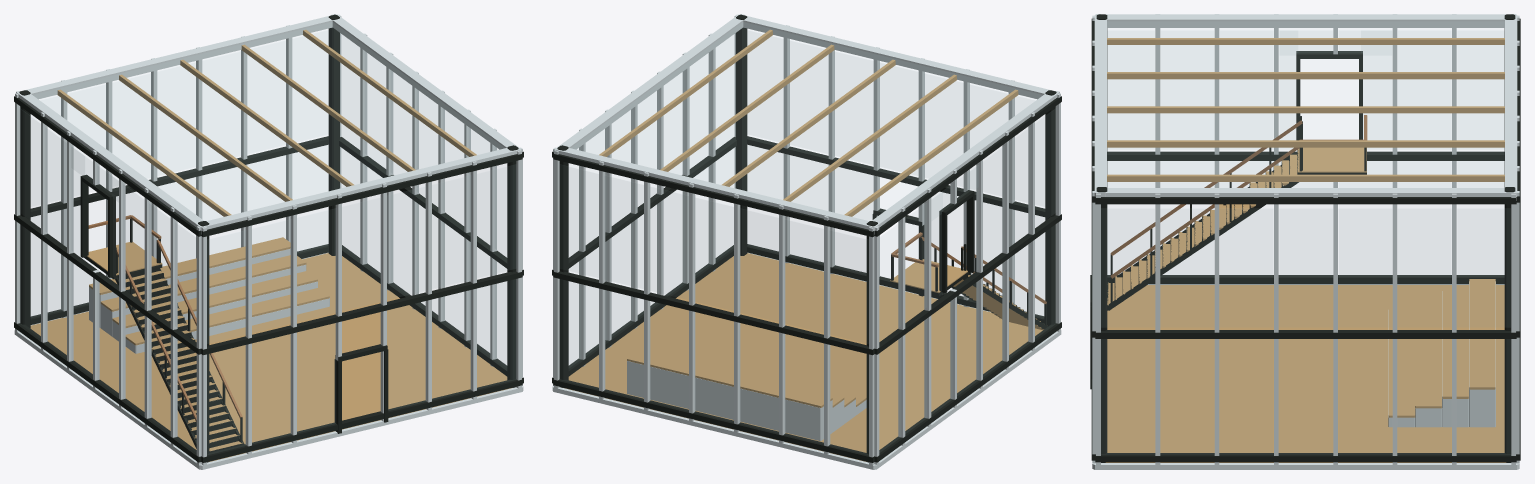
The model's file is gh_atrium_v01.glb.
The picture shows the model from 3 angles, left to right: view 1: azimuth 30°, elevation 25°; view 2: azimuth 150°, elevation 25°; view 3: azimuth 270°, elevation 25°; orthographic projection. The views are drawn at different scales.
Parts seen in each view (by area): view 1: base, sides, front, roof, seating, back, atrium_stairs, bridge_landing; view 2: base, sides, back, roof, seating, front, atrium_stairs, bridge_landing; view 3: sides, base, roof, seating, atrium_stairs, bridge_landing, front, back.
Boxes of the visible parts, box(x1,y1,x2,y2) form: base: box(14, 252, 523, 469); sides: box(14, 14, 523, 466); front: box(201, 150, 522, 465); roof: box(16, 14, 521, 234); seating: box(19, 14, 518, 462); back: box(16, 14, 334, 324); atrium_stairs: box(115, 239, 244, 452); bridge_landing: box(84, 215, 162, 279); base: box(552, 252, 1061, 469); sides: box(552, 14, 1061, 464); back: box(553, 150, 874, 468); roof: box(554, 14, 1059, 234); seating: box(557, 14, 1056, 462); front: box(741, 14, 1059, 323); atrium_stairs: box(920, 236, 1047, 329); bridge_landing: box(890, 232, 968, 296); sides: box(1095, 14, 1516, 468); base: box(1092, 284, 1519, 469); roof: box(1094, 14, 1517, 200); seating: box(1096, 14, 1515, 462); atrium_stairs: box(1107, 120, 1302, 310); bridge_landing: box(1298, 115, 1367, 174); front: box(1090, 15, 1095, 463); back: box(1516, 15, 1520, 463).
Bounding box in the file's own units: 14.09 × 10 × 14.09.
2 materials, 1 textured.
